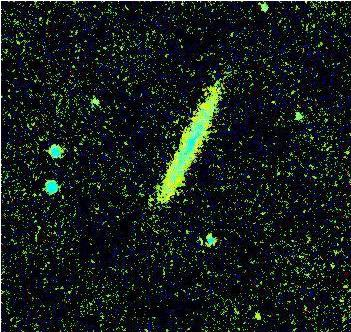star: (255, 89, 285, 119)
